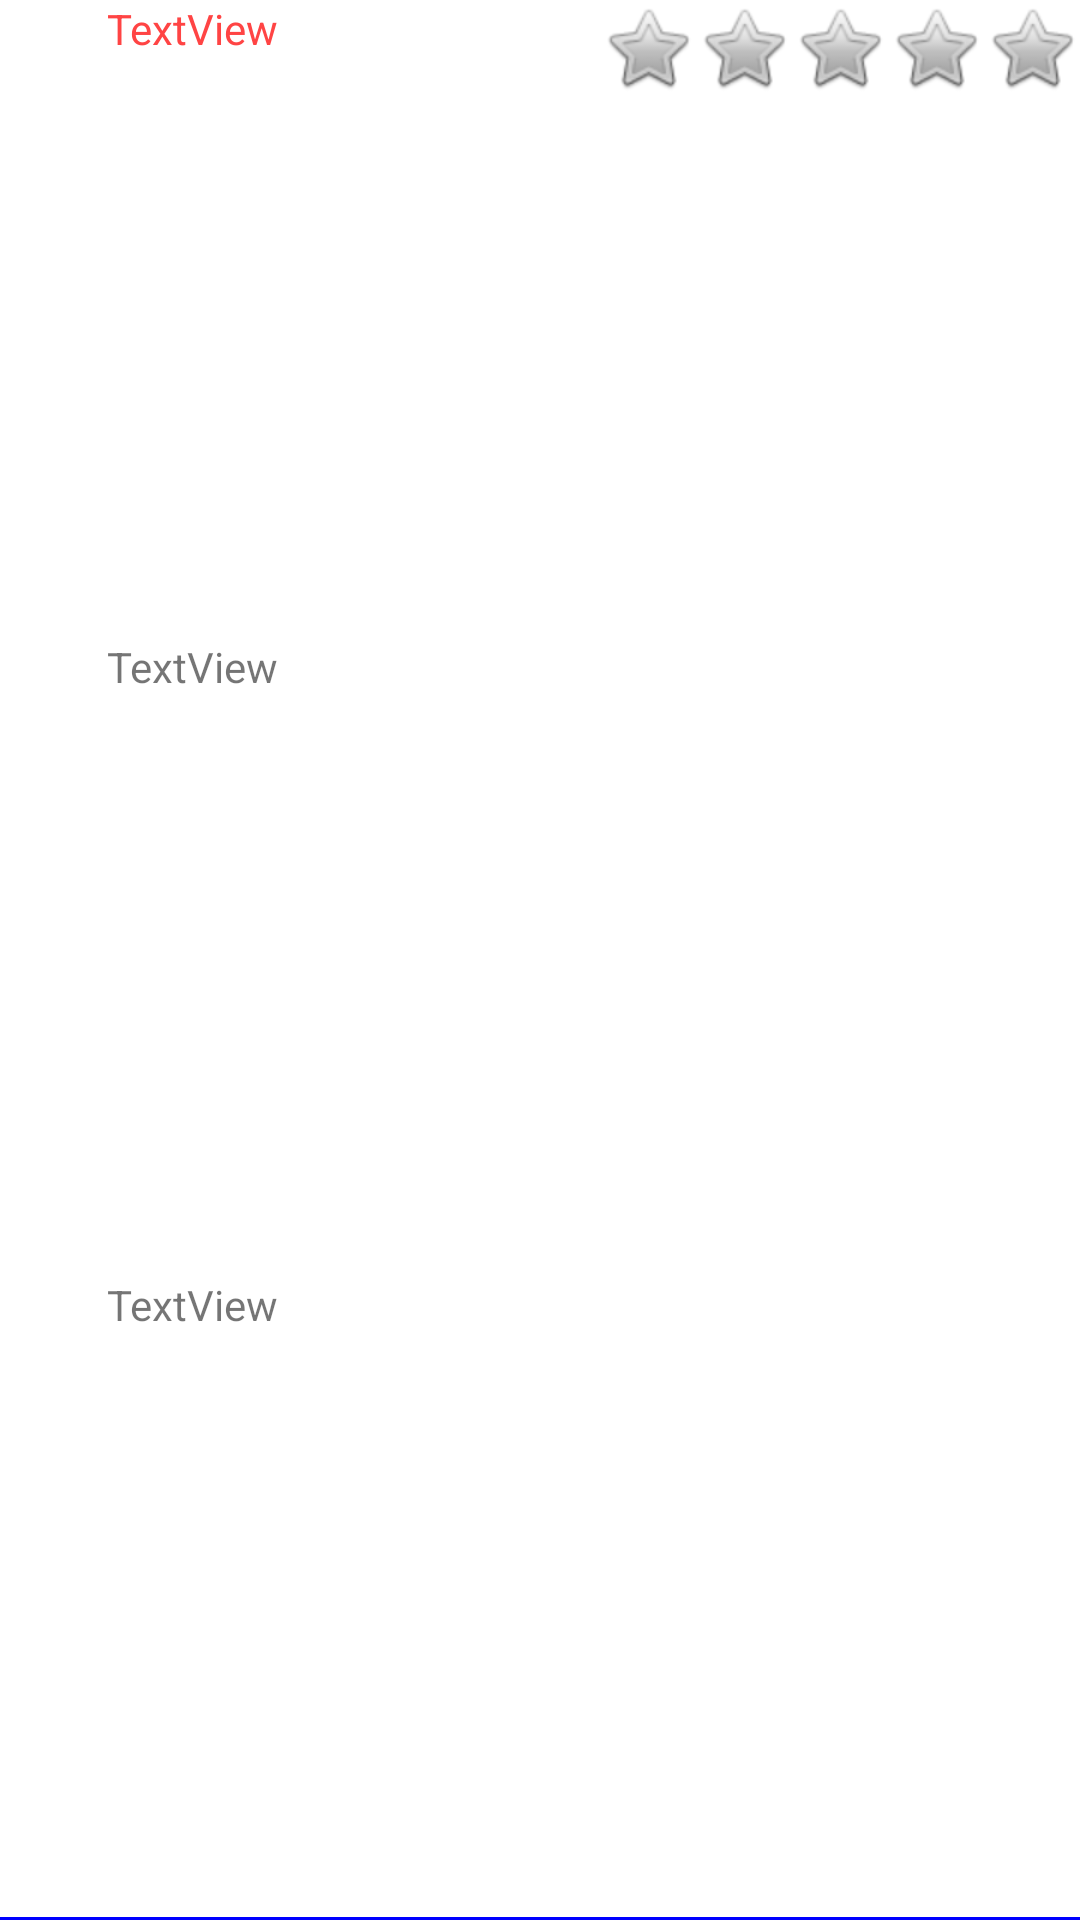

Named icons in this screenshot (1080×1920) and their centers, (x,y):
star: (649,49), (745,49), (841,49), (937,49), (1033,49)
